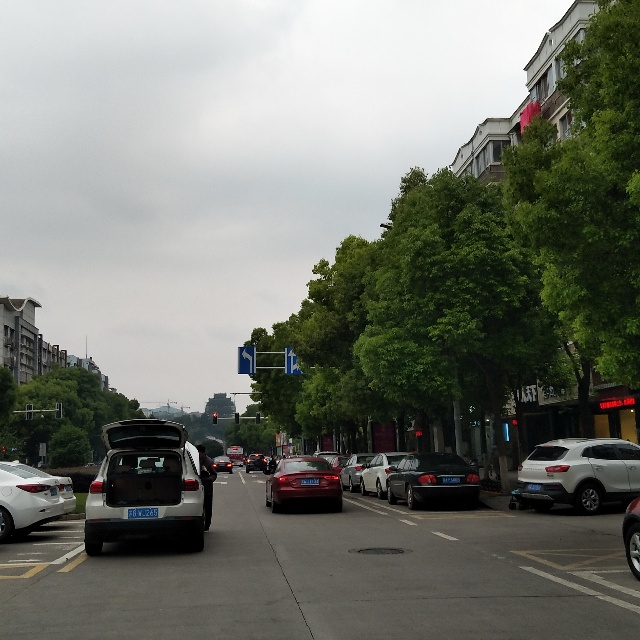left: (238, 347, 256, 375)
